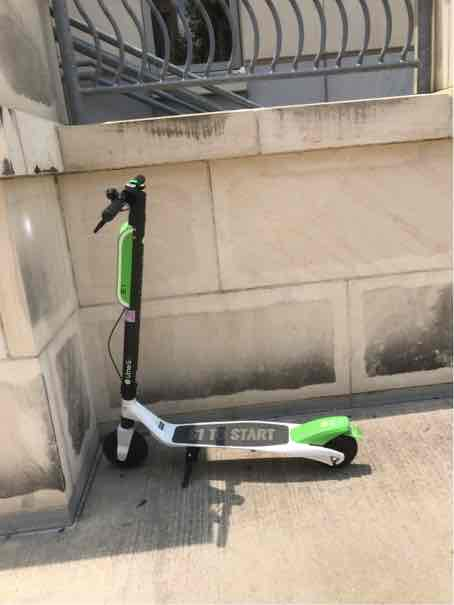scooter: (80, 154, 366, 488)
